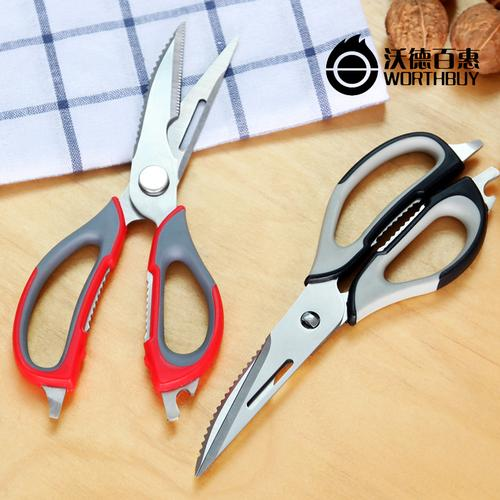scissor: (192, 132, 499, 480), (11, 20, 236, 423)
